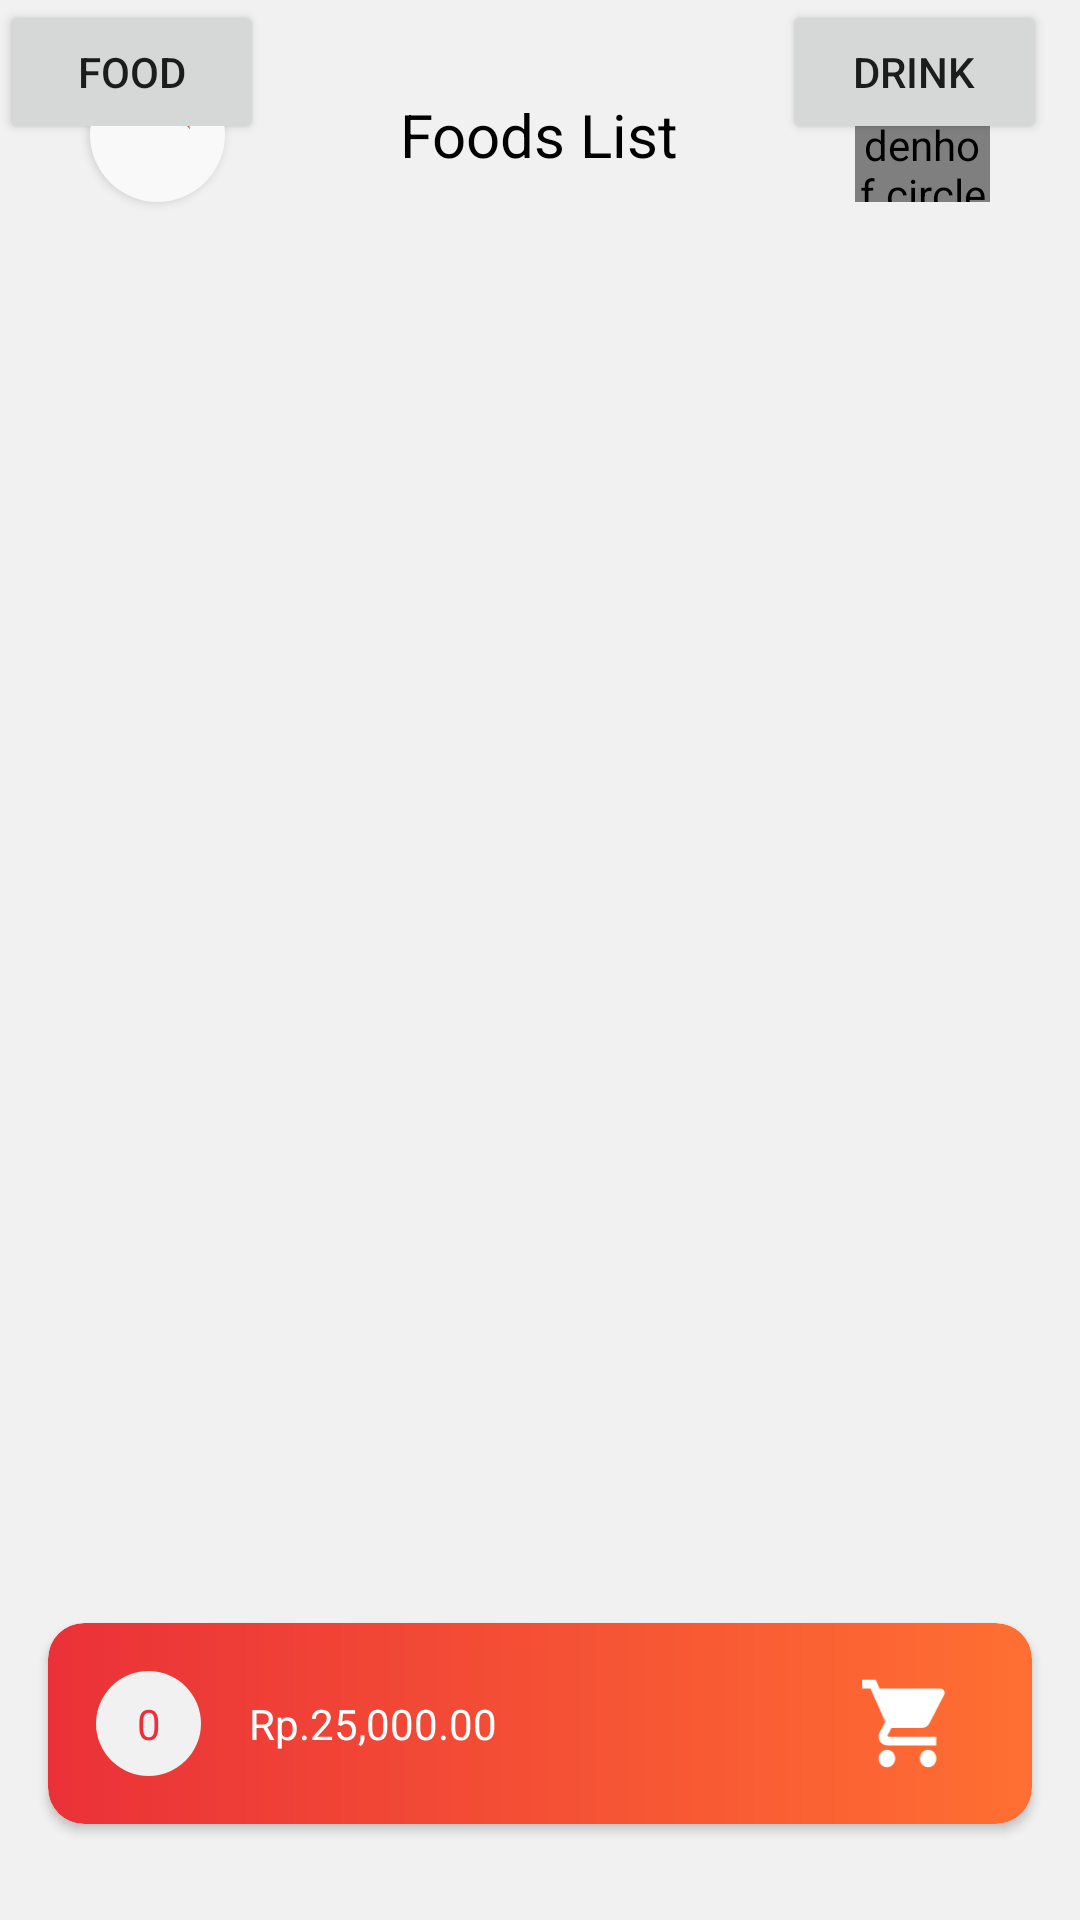

Icon bounding boxes for this 1080px×1920px phone screenshot, format BBox(x1, y1, x2, y2):
shopping cart: BBox(862, 1679, 945, 1768)
